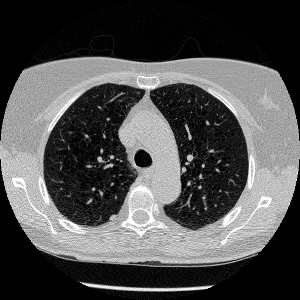nodule: (109, 214, 115, 220)
